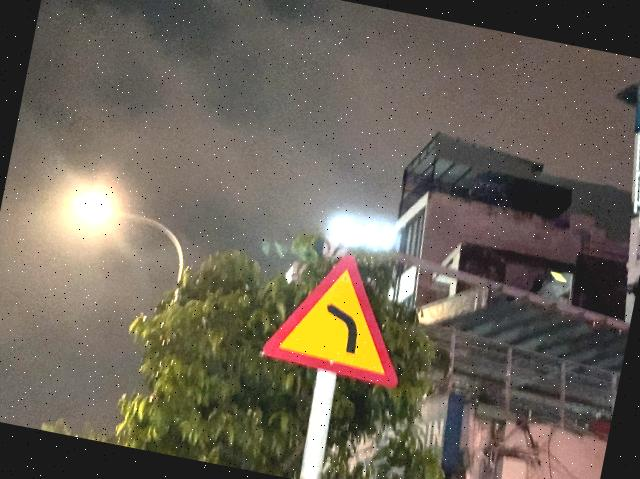cho-ngoat-nguy-hiem-ben-trai: (258, 238, 420, 389)
